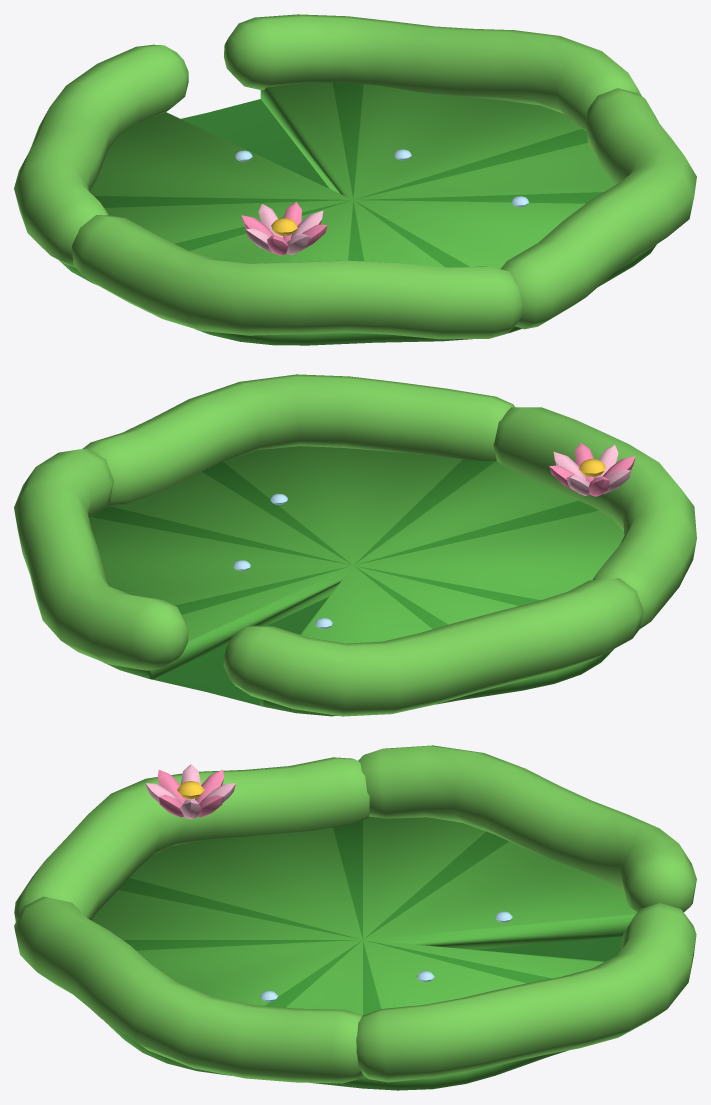
Rendered from R01_LilyPad.fbx.
3 views of the same model, one above another, from view 1: azimuth 30°, elevation 25°; view 2: azimuth 150°, elevation 25°; view 3: azimuth 270°, elevation 25° (orthographic).
Parts seen in each view (by area): view 1: Raft_Floor, Chamber_0_NE, Chamber_3_SO, Chamber_1_NO, Chamber_2_SE, Raft_Deco; view 2: Raft_Floor, Chamber_2_SE, Chamber_1_NO, Chamber_3_SO, Chamber_0_NE, Raft_Deco; view 3: Raft_Floor, Chamber_1_NO, Chamber_3_SO, Chamber_0_NE, Chamber_2_SE, Raft_Deco.
Part boxes in pixels (x1=…): Raft_Floor: x1=59, y1=82, x2=656, y2=345; Chamber_0_NE: x1=72, y1=202, x2=522, y2=339; Chamber_3_SO: x1=224, y1=14, x2=641, y2=130; Chamber_1_NO: x1=500, y1=88, x2=696, y2=329; Chamber_2_SE: x1=14, y1=44, x2=188, y2=267; Raft_Deco: x1=181, y1=99, x2=528, y2=207; Raft_Floor: x1=89, y1=446, x2=624, y2=716; Chamber_2_SE: x1=223, y1=578, x2=643, y2=716; Chamber_1_NO: x1=82, y1=374, x2=514, y2=506; Chamber_3_SO: x1=14, y1=448, x2=188, y2=670; Chamber_0_NE: x1=493, y1=407, x2=696, y2=629; Raft_Deco: x1=152, y1=493, x2=332, y2=705; Raft_Floor: x1=75, y1=816, x2=636, y2=1090; Chamber_1_NO: x1=14, y1=896, x2=363, y2=1083; Chamber_3_SO: x1=356, y1=903, x2=696, y2=1082; Chamber_0_NE: x1=14, y1=757, x2=370, y2=921; Chamber_2_SE: x1=358, y1=745, x2=696, y2=912; Raft_Deco: x1=260, y1=911, x2=622, y2=1001.
Bounding box in the file's own units: 4.42 × 0.83 × 4.37.
